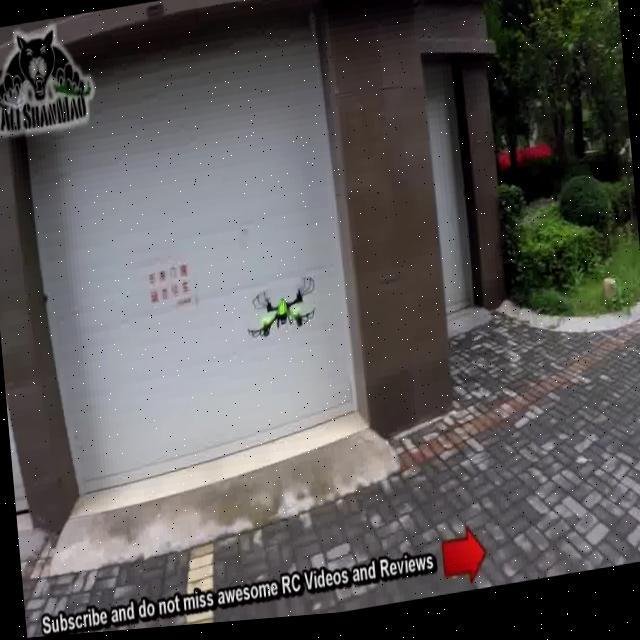drone: (241, 281, 324, 356)
